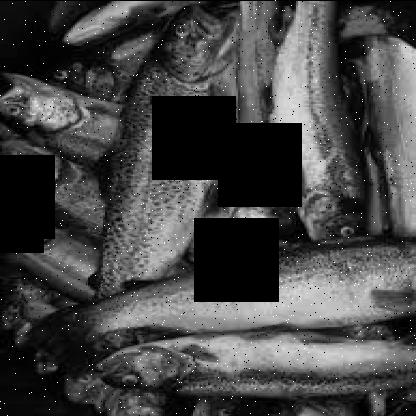fish: (81, 6, 243, 354), (94, 330, 414, 405)
